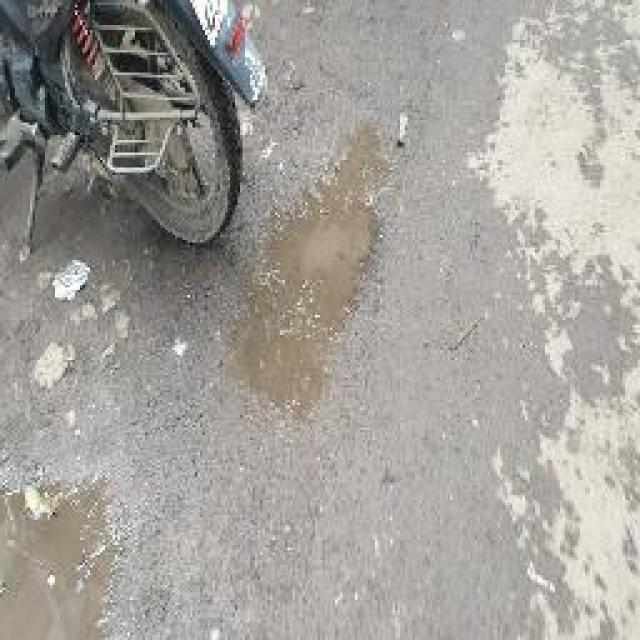stagnation: (255, 165, 378, 405)
